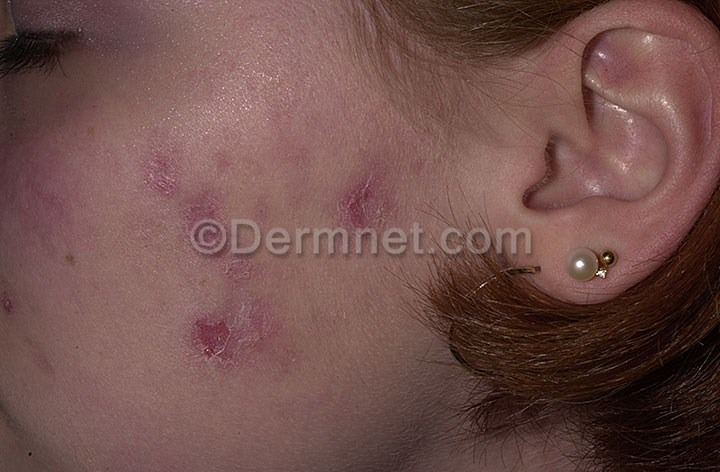Acne: (133, 116, 392, 361)
